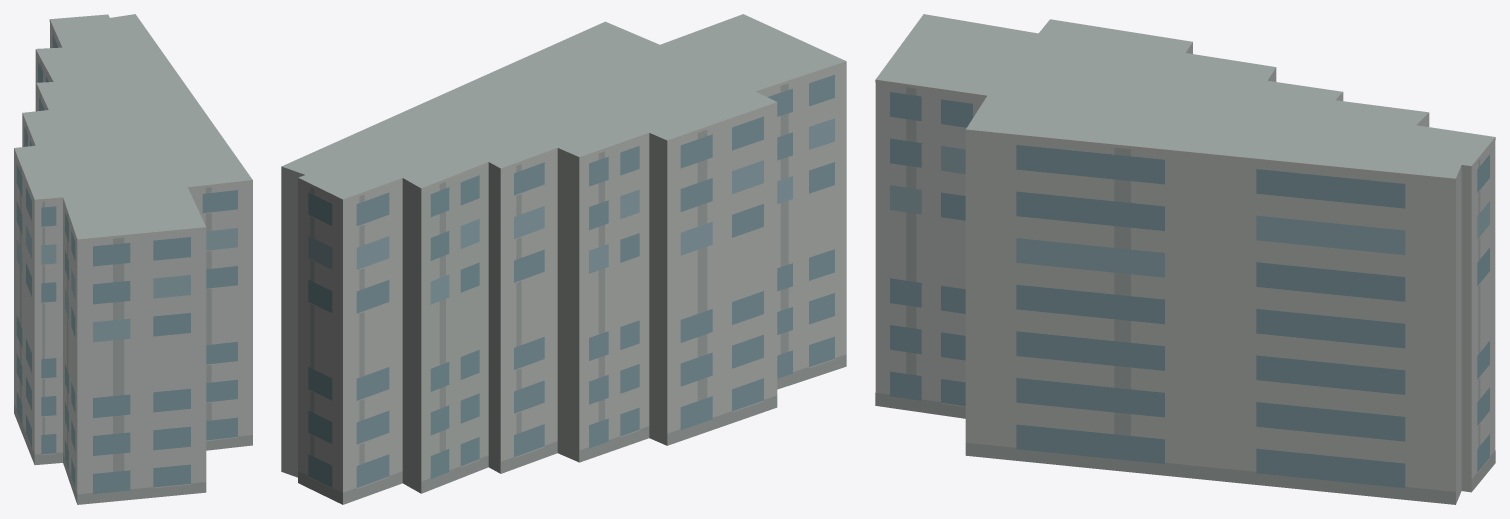
Rendered from survey-upis-32932275.glb.
3 views of the same model, side by side, from view 1: azimuth 30°, elevation 25°; view 2: azimuth 150°, elevation 25°; view 3: azimuth 270°, elevation 25° (orthographic). The views are drawn at different scales.
Visible parts, largest first — view 1: survey-upis-32932275.tmp; view 2: survey-upis-32932275.tmp; view 3: survey-upis-32932275.tmp.
Boxes of the visible parts, x1,y1,x2,y2 form: survey-upis-32932275.tmp: (14,14,252,504); survey-upis-32932275.tmp: (281,14,846,504); survey-upis-32932275.tmp: (875,14,1495,504).
Bounding box in the file's own units: 27.22 × 25.13 × 43.29.
